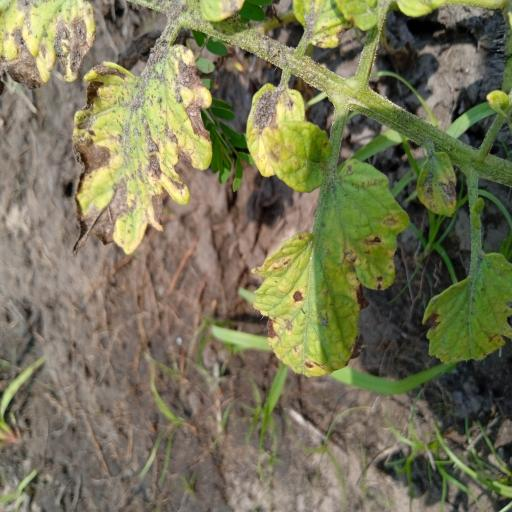Tomato_Brown_Spots: (253, 114, 406, 380), (67, 40, 214, 261), (425, 242, 512, 368)
